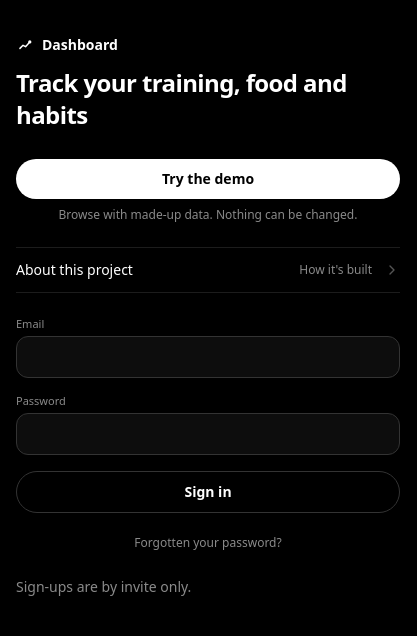
Test case: LoginPage, for a visitor › shows a failed demo under its own button, not in the form
Click the button "Try the demo" at x=208, y=179, box [16,159,400,199]
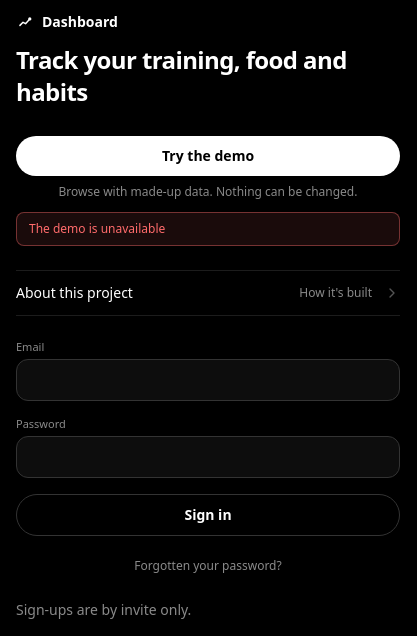
Expected: the message reads "The demo is unavailable", [29,220,165,237]
